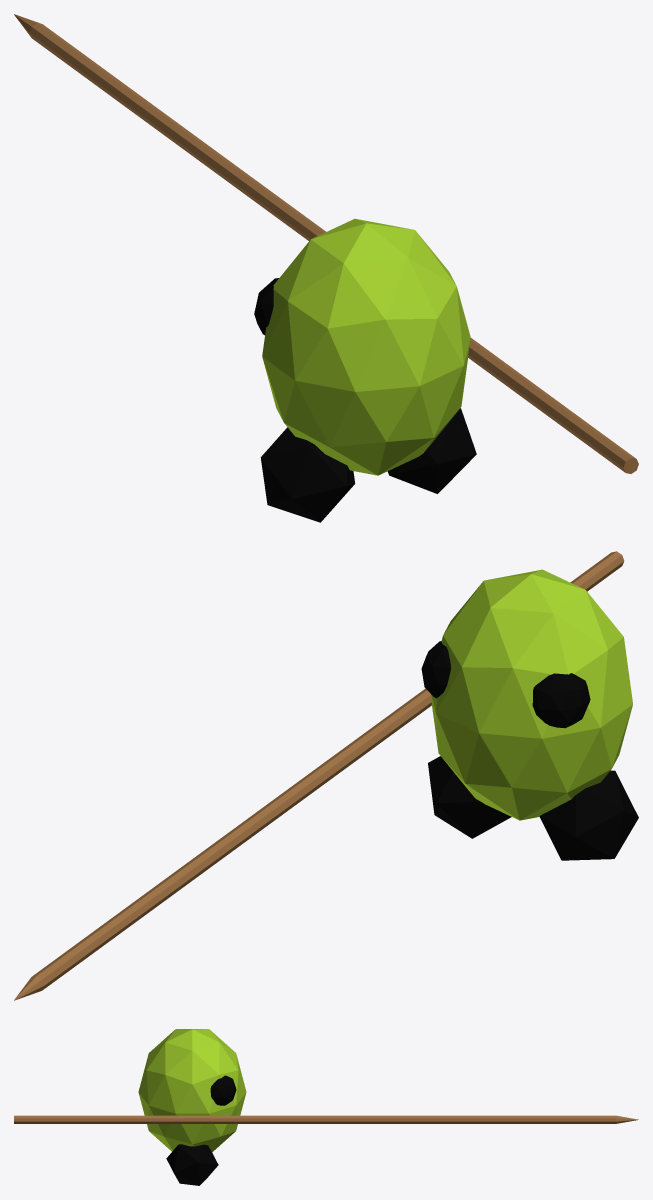
The model's file is stab.f0019.glb.
The picture shows the model from 3 angles, top to bottom: view 1: azimuth 30°, elevation 25°; view 2: azimuth 150°, elevation 25°; view 3: azimuth 270°, elevation 25°; orthographic projection. The views are drawn at different scales.
Parts seen in each view (by area): view 1: Body.001; view 2: Body.001; view 3: Body.001.
Part boxes in pixels (box(x1,y1,x2,y2)): Body.001: box(14, 14, 638, 522); Body.001: box(14, 551, 638, 1000); Body.001: box(14, 1029, 638, 1185).
Bounding box in the file's own units: 2.17 × 2.85 × 11.56.
1 material, 1 textured.
